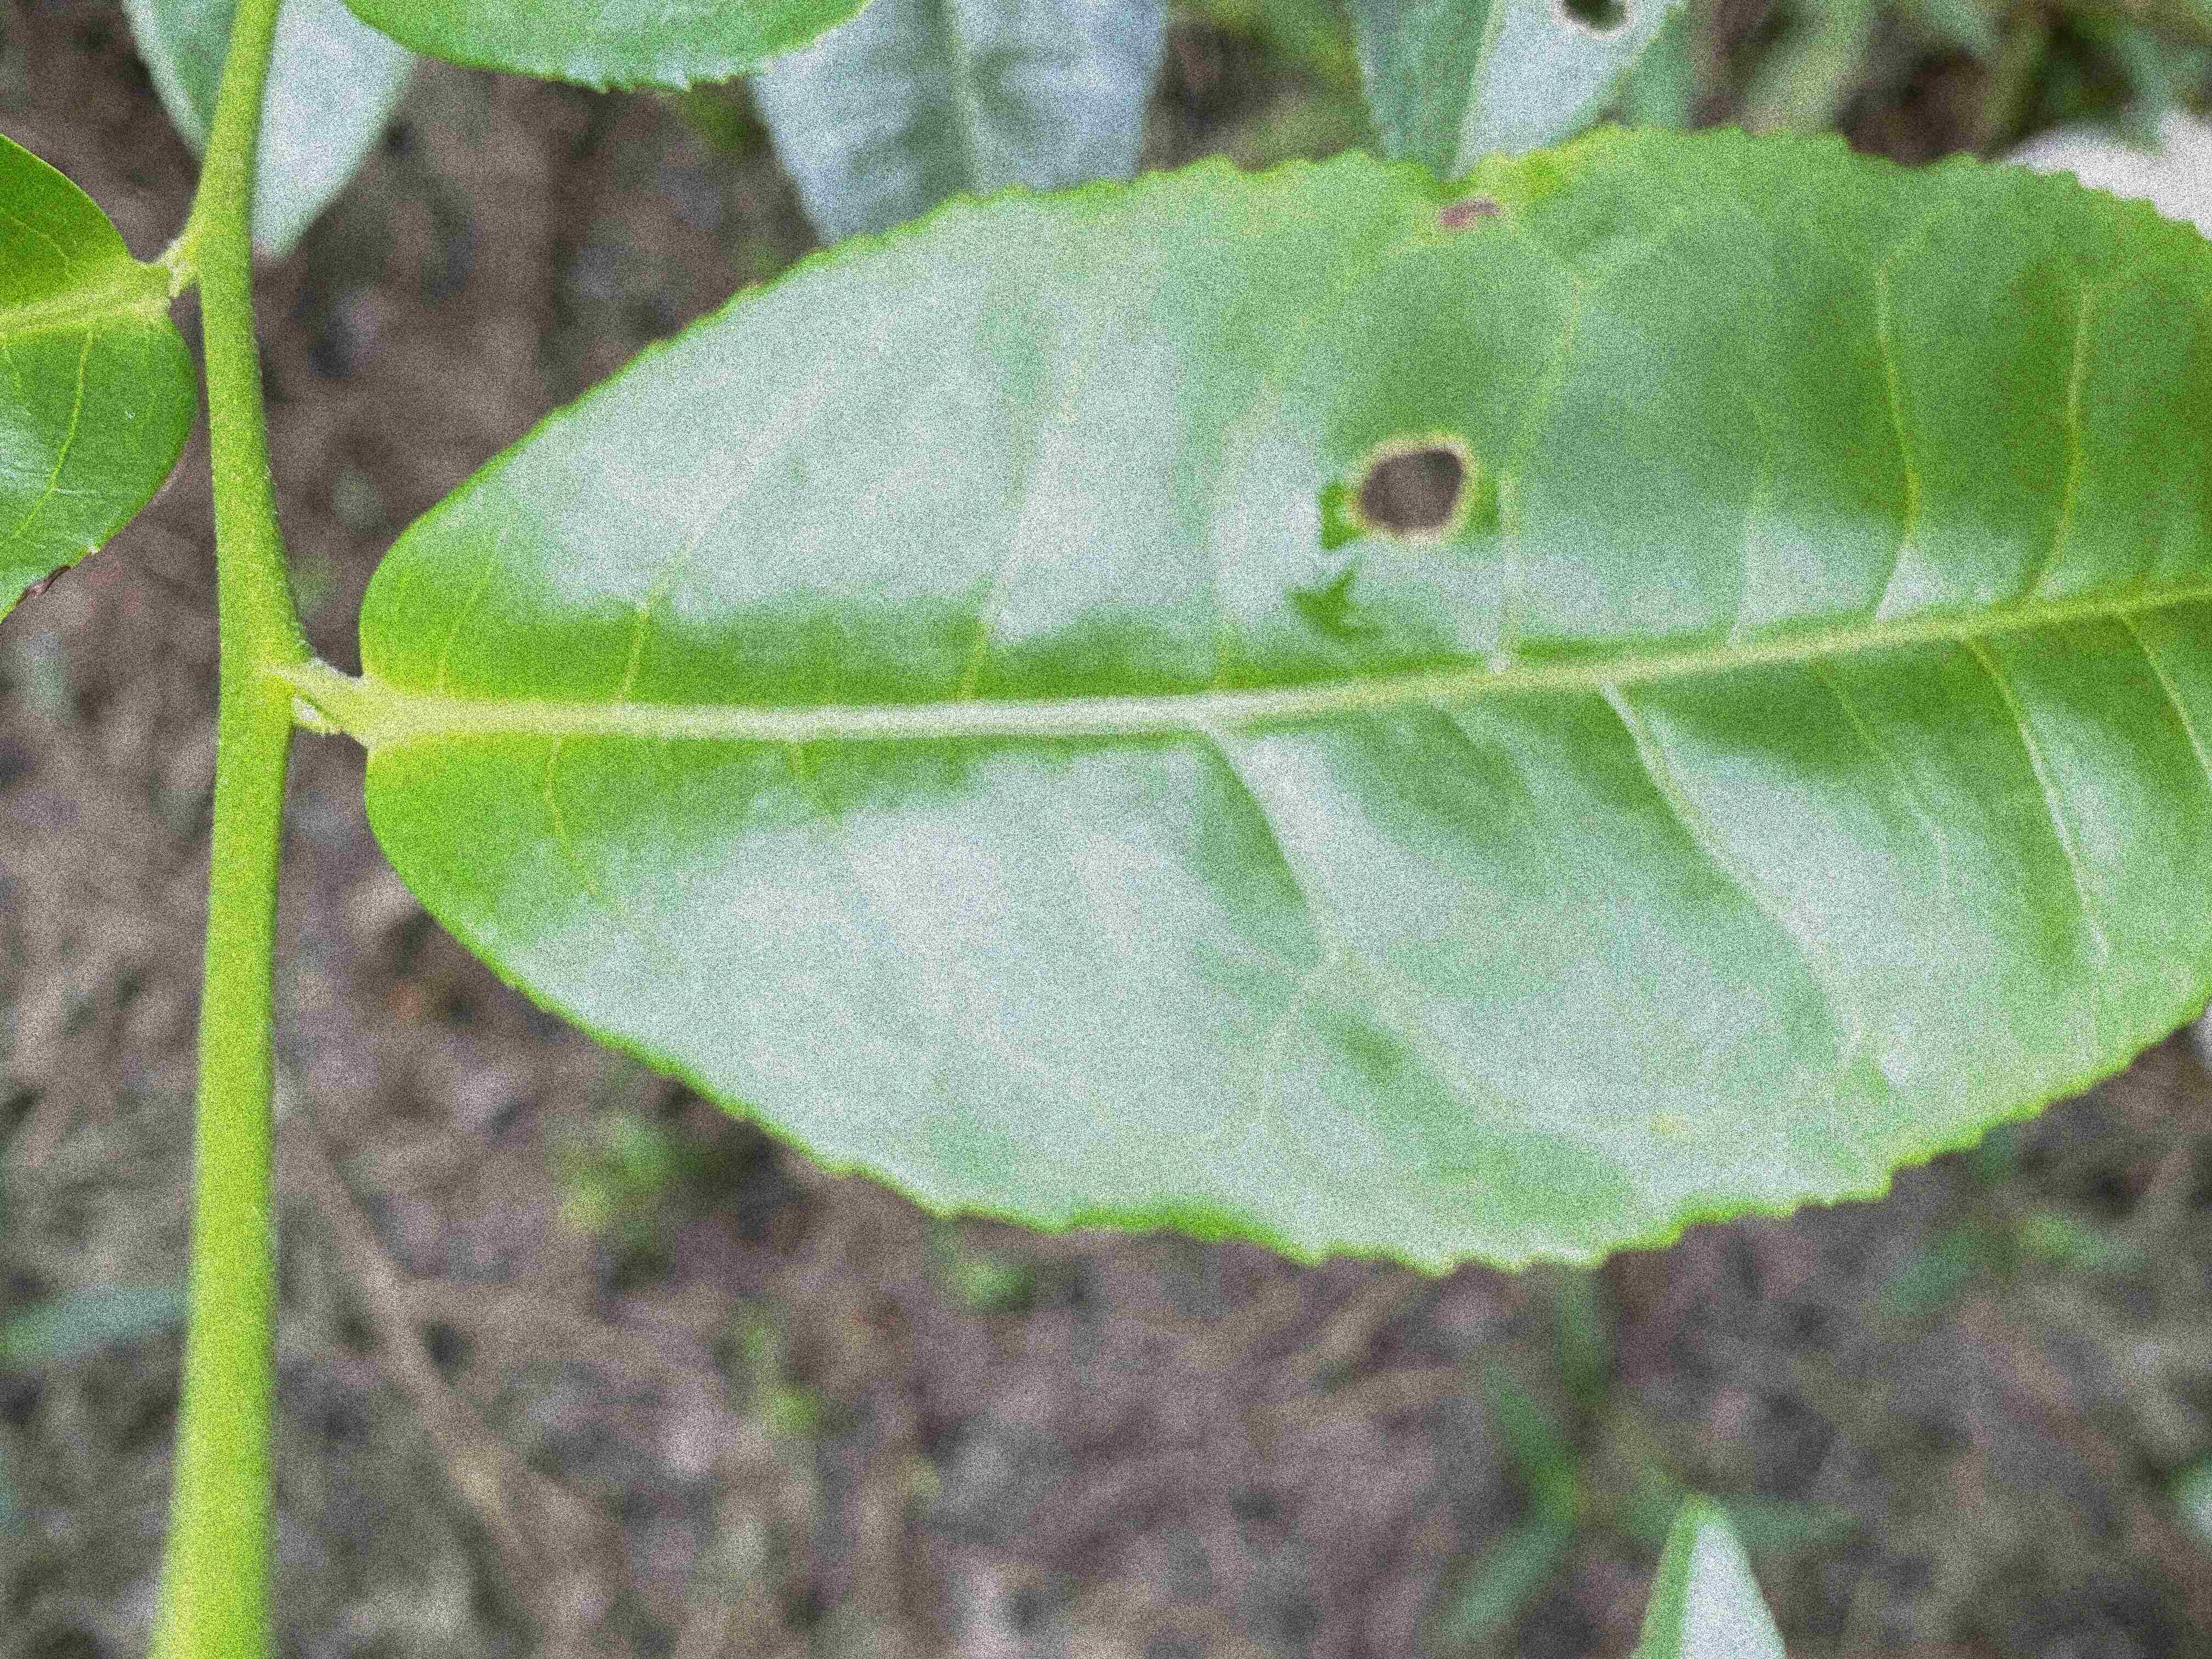chihuo_low: (362, 122, 2209, 1279)
